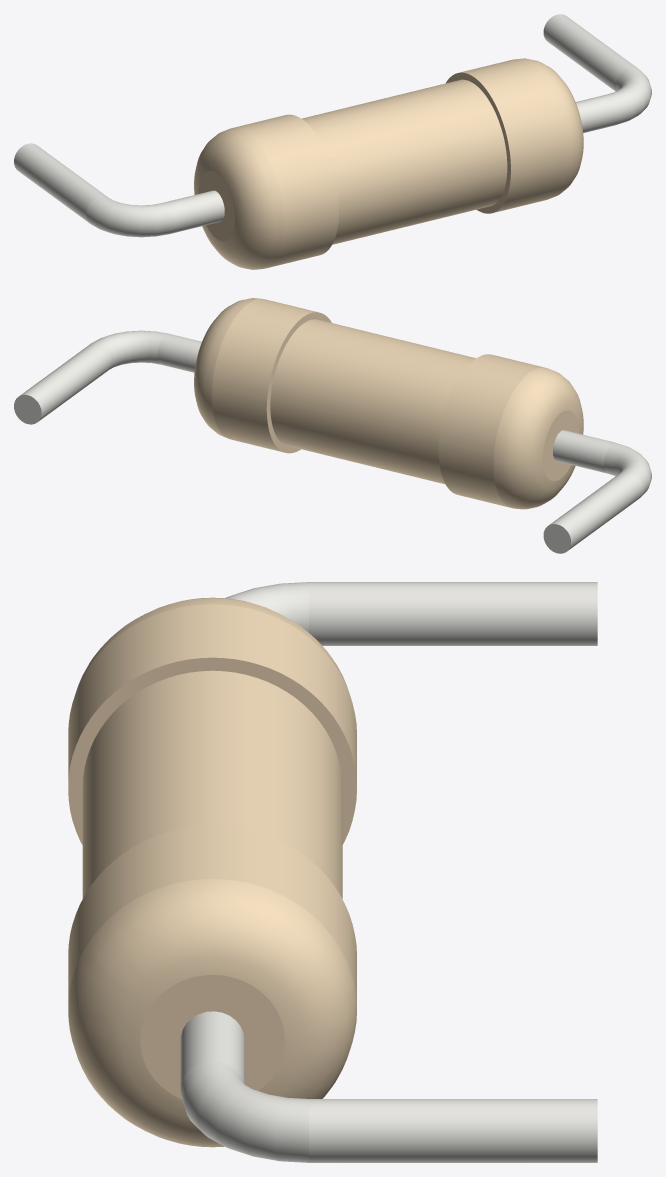
The model's file is R_Axial_DIN0411_L9.9mm_D3.6mm_P15.24mm_Horizontal.glb.
3 views of the same model, one above another, from view 1: azimuth 30°, elevation 25°; view 2: azimuth 150°, elevation 25°; view 3: azimuth 270°, elevation 25° (orthographic). The views are drawn at different scales.
Parts seen in each view (by area): view 1: Shape_IndexedFaceSet.004, Shape_IndexedFaceSet.008, Shape_IndexedFaceSet, Shape_IndexedFaceSet.001, Shape_IndexedFaceSet.009, Shape_IndexedFaceSet.015, Shape_IndexedFaceSet.007, Shape_IndexedFaceSet.010, Shape_IndexedFaceSet.005, Shape_IndexedFaceSet.014, Shape_IndexedFaceSet.013, Shape_IndexedFaceSet.003 (+1 smaller); view 2: Shape_IndexedFaceSet.004, Shape_IndexedFaceSet, Shape_IndexedFaceSet.008, Shape_IndexedFaceSet.001, Shape_IndexedFaceSet.009, Shape_IndexedFaceSet.015, Shape_IndexedFaceSet.010, Shape_IndexedFaceSet.005, Shape_IndexedFaceSet.014, Shape_IndexedFaceSet.007, Shape_IndexedFaceSet.013, Shape_IndexedFaceSet.003 (+3 smaller); view 3: Shape_IndexedFaceSet.010, Shape_IndexedFaceSet.004, Shape_IndexedFaceSet.015, Shape_IndexedFaceSet.009, Shape_IndexedFaceSet.008, Shape_IndexedFaceSet, Shape_IndexedFaceSet.012, Shape_IndexedFaceSet.014, Shape_IndexedFaceSet.002, Shape_IndexedFaceSet.013, Shape_IndexedFaceSet.007, Shape_IndexedFaceSet.001.
Boxes of the visible parts, box(x1,y1,x2,y2) form: Shape_IndexedFaceSet.004: box(302, 79, 507, 244); Shape_IndexedFaceSet.008: box(460, 59, 565, 212); Shape_IndexedFaceSet: box(233, 114, 338, 267); Shape_IndexedFaceSet.001: box(194, 128, 284, 269); Shape_IndexedFaceSet.009: box(14, 143, 107, 223); Shape_IndexedFaceSet.015: box(543, 14, 636, 91); Shape_IndexedFaceSet.007: box(86, 196, 173, 237); Shape_IndexedFaceSet.010: box(516, 58, 583, 198); Shape_IndexedFaceSet.005: box(163, 190, 224, 233); Shape_IndexedFaceSet.014: box(608, 67, 651, 124); Shape_IndexedFaceSet.013: box(575, 94, 619, 132); Shape_IndexedFaceSet.003: box(198, 171, 234, 241); Shape_IndexedFaceSet.004: box(270, 319, 475, 484); Shape_IndexedFaceSet: box(438, 354, 544, 507); Shape_IndexedFaceSet.008: box(212, 299, 317, 452); Shape_IndexedFaceSet.001: box(493, 367, 583, 509); Shape_IndexedFaceSet.009: box(549, 471, 643, 551); Shape_IndexedFaceSet.015: box(20, 342, 113, 421); Shape_IndexedFaceSet.010: box(194, 298, 261, 437); Shape_IndexedFaceSet.005: box(553, 430, 614, 473); Shape_IndexedFaceSet.014: box(93, 330, 167, 368); Shape_IndexedFaceSet.007: box(604, 442, 651, 496); Shape_IndexedFaceSet.013: box(157, 333, 201, 372); Shape_IndexedFaceSet.003: box(543, 410, 578, 480); Shape_IndexedFaceSet.010: box(68, 879, 356, 1147); Shape_IndexedFaceSet.004: box(82, 670, 342, 898); Shape_IndexedFaceSet.015: box(309, 1099, 597, 1162); Shape_IndexedFaceSet.009: box(309, 582, 597, 645); Shape_IndexedFaceSet.008: box(68, 825, 356, 1003); Shape_IndexedFaceSet: box(68, 604, 356, 782); Shape_IndexedFaceSet.012: box(140, 975, 284, 1099); Shape_IndexedFaceSet.014: box(180, 1061, 308, 1162); Shape_IndexedFaceSet.002: box(68, 657, 356, 844); Shape_IndexedFaceSet.013: box(180, 1011, 244, 1085); Shape_IndexedFaceSet.007: box(225, 582, 308, 632); Shape_IndexedFaceSet.001: box(76, 597, 348, 691).
Size of the model in its own units: 6.31 by 1.42 by 2.6.
